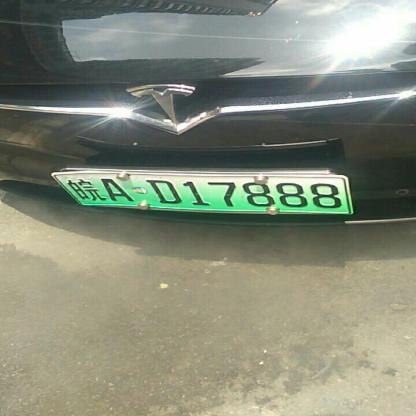lp: (51, 173, 79, 213)
